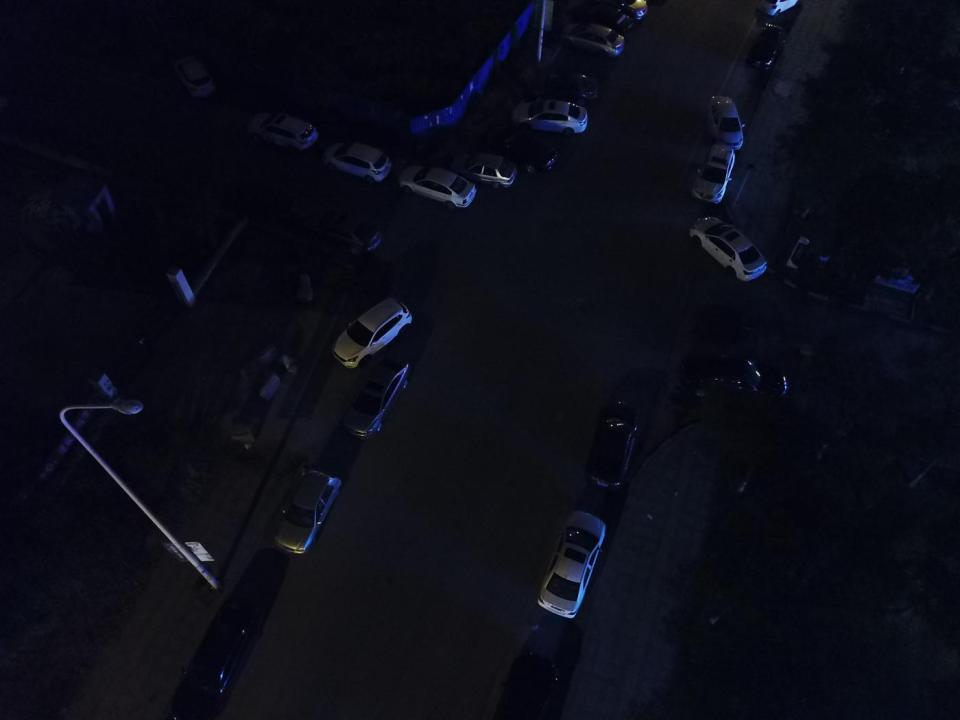car: (168, 597, 264, 720), (535, 508, 607, 621), (274, 467, 345, 553), (678, 354, 788, 408), (333, 296, 412, 370), (341, 357, 410, 438), (688, 212, 766, 281), (584, 398, 642, 488), (303, 206, 383, 256), (394, 164, 479, 210), (220, 178, 300, 224), (243, 108, 319, 155), (490, 129, 558, 176), (320, 140, 392, 184), (687, 142, 737, 202), (510, 99, 589, 134), (446, 152, 519, 188), (533, 70, 601, 106), (745, 22, 794, 67), (561, 22, 625, 56), (706, 94, 746, 148), (174, 54, 220, 99), (579, 3, 637, 36)
